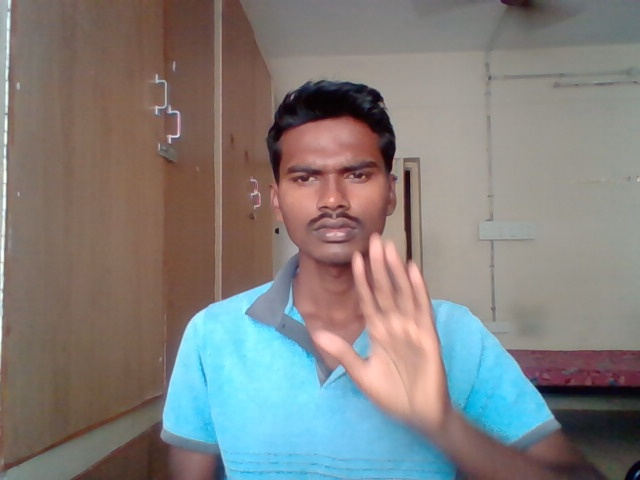Hello: (312, 232, 451, 430)
